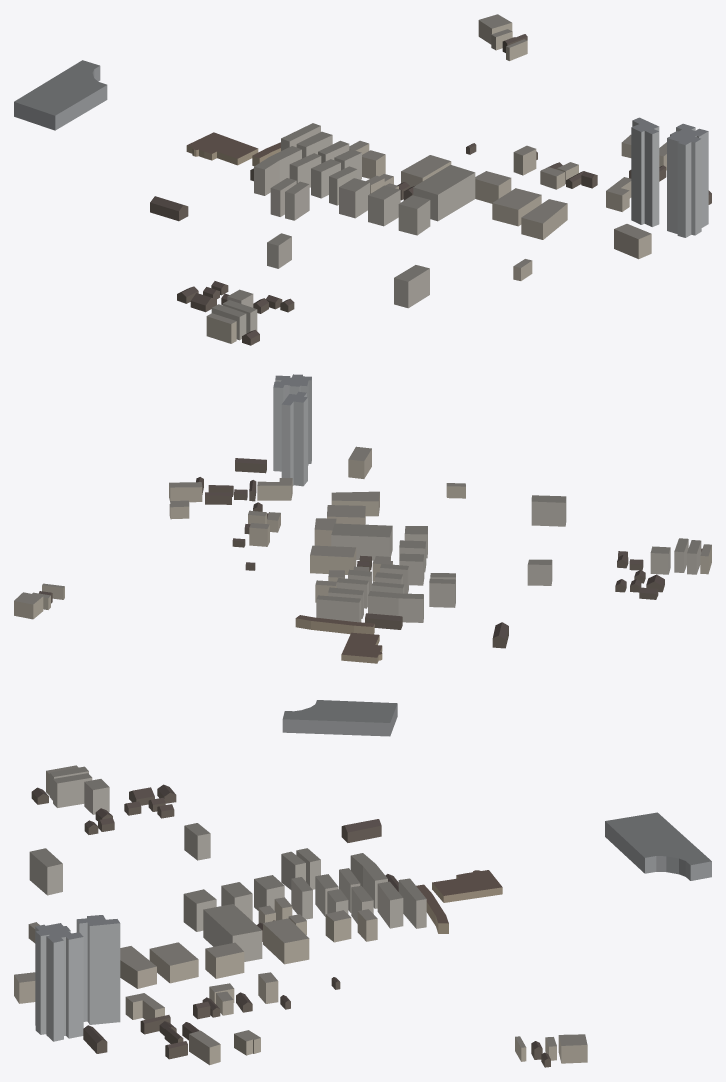
The model's file is tile_6_6.glb.
The picture shows the model from 3 angles, top to bottom: view 1: azimuth 30°, elevation 25°; view 2: azimuth 150°, elevation 25°; view 3: azimuth 270°, elevation 25°; orthographic projection. The views are drawn at different scales.
Visible parts, largest first — view 1: HP-w505643595, HP-w1235754994, HP-w505643596, HP-w505633444, HP-w494394246, HP-w505653337, HP-w505633446, HP-w505633447, HP-w505636034, HP-w505636038, HP-w505636039, HP-w505633425 (+17 smaller); view 2: HP-w1235754994, HP-w505643596, HP-w505633444, HP-w505643595, HP-w505653337, HP-w505636049, HP-w505636034, HP-w505653339, HP-w494394246, HP-w505653341, HP-w505633446, HP-w505653352 (+8 smaller); view 3: HP-w505643595, HP-w1235754994, HP-w505643596, HP-w505633444, HP-w505636049, HP-w494394246, HP-w505633447, HP-w505636034, HP-w505633445, HP-w505633446, HP-w505653337, HP-w1287936332 (+23 smaller).
Boxes of the visible parts, x1,y1,x2,y2 form: HP-w505643595: [667, 123, 708, 237]; HP-w1235754994: [14, 60, 107, 130]; HP-w505643596: [631, 117, 659, 226]; HP-w505633444: [413, 165, 475, 221]; HP-w494394246: [186, 132, 258, 165]; HP-w505653337: [254, 146, 301, 195]; HP-w505633446: [521, 199, 567, 239]; HP-w505633447: [492, 188, 541, 226]; HP-w505636034: [394, 265, 429, 308]; HP-w505636038: [398, 195, 430, 235]; HP-w505636039: [368, 185, 400, 226]; HP-w505633425: [614, 224, 651, 259]; HP-w1235754994: [282, 700, 397, 736]; HP-w505643596: [281, 391, 307, 486]; HP-w505633444: [331, 523, 392, 560]; HP-w505643595: [273, 374, 311, 471]; HP-w505653337: [368, 591, 423, 622]; HP-w505636049: [310, 545, 356, 574]; HP-w505636034: [531, 495, 566, 526]; HP-w505653339: [316, 595, 361, 622]; HP-w494394246: [341, 632, 382, 663]; HP-w505653341: [295, 615, 374, 634]; HP-w505633446: [331, 491, 379, 516]; HP-w505653352: [429, 578, 455, 607]; HP-w505643595: [35, 923, 83, 1041]; HP-w1235754994: [605, 812, 711, 880]; HP-w505643596: [76, 915, 120, 1024]; HP-w505633444: [203, 904, 262, 961]; HP-w505636049: [263, 918, 309, 964]; HP-w494394246: [432, 870, 502, 902]; HP-w505633447: [149, 942, 198, 983]; HP-w505636034: [29, 848, 62, 895]; HP-w505633445: [205, 942, 244, 978]; HP-w505633446: [120, 946, 156, 988]; HP-w505653337: [350, 853, 387, 908]; HP-w1287936332: [53, 773, 92, 807].
Bounding box in the file's own units: 512 × 84 × 537.
